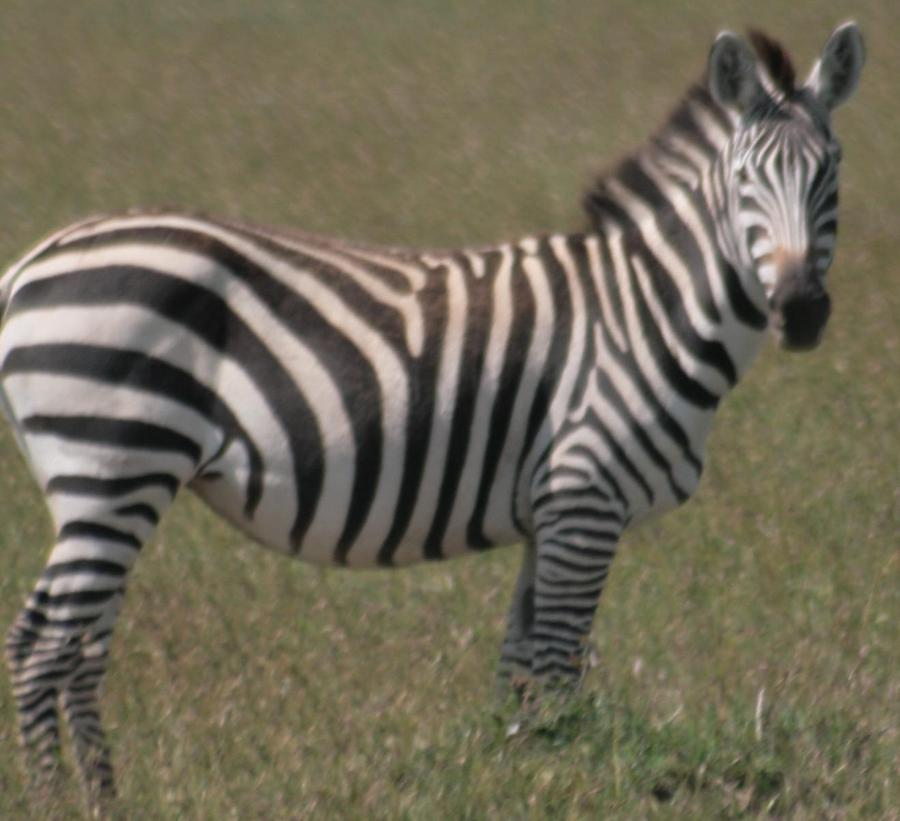zebra_plains: (13, 175, 733, 566)
